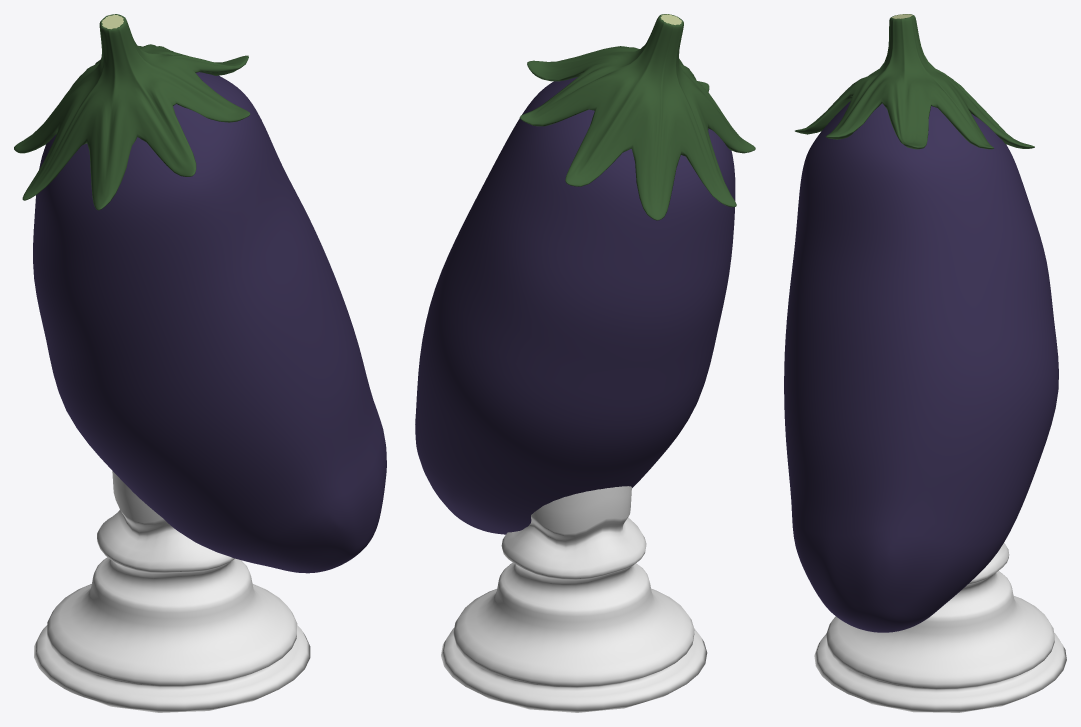
The model's file is nasu.fbx.
3 renders of one model, left to right at view 1: azimuth 30°, elevation 25°; view 2: azimuth 150°, elevation 25°; view 3: azimuth 270°, elevation 25°, orthographic. The views are drawn at different scales.
Parts seen in each view (by area): view 1: polySurface19; view 2: polySurface19; view 3: polySurface19.
Part boxes in pixels (x1,y1,x2,y2): polySurface19: (14, 14, 386, 712); polySurface19: (415, 14, 755, 712); polySurface19: (784, 14, 1066, 712).
Bounding box in the file's own units: 9.16 × 17.63 × 7.28.
